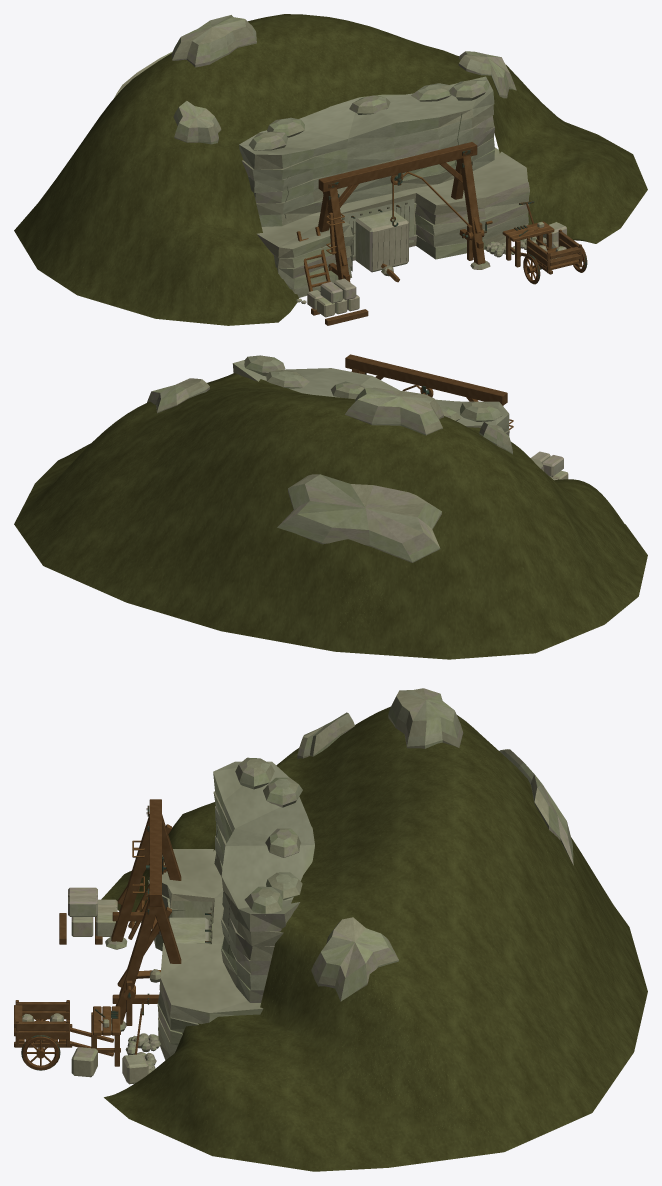
Rendered from quarry-BG-4eNkq.glb.
3 renders of one model, top to bottom at view 1: azimuth 30°, elevation 25°; view 2: azimuth 150°, elevation 25°; view 3: azimuth 270°, elevation 25°, orthographic. The views are drawn at different scales.
Visible parts, largest first — view 1: Quarry__relief-ground__Cointe_quarry_earth, Quarry__rockmass__Cointe_quarry_bedrock, Quarry__equipment__Cointe_quarry_timber, Quarry__cut-and-stock__Cointe_quarry_cutstone, Quarry__relief-rock-crest__Cointe_quarry_bedrock, Quarry__relief-rock-west__Cointe_quarry_bedrock, Quarry__relief-rock-east__Cointe_quarry_bedrock, Quarry__equipment__Cointe_quarry_bedrock, Quarry__equipment__Cointe_quarry_iron, Quarry__equipment__Cointe_quarry_rope, Quarry__spoil__Cointe_quarry_bedrock; view 2: Quarry__relief-ground__Cointe_quarry_earth, Quarry__relief-rock-rear__Cointe_quarry_bedrock, Quarry__rockmass__Cointe_quarry_bedrock, Quarry__relief-rock-crest__Cointe_quarry_bedrock, Quarry__equipment__Cointe_quarry_timber, Quarry__relief-rock-east__Cointe_quarry_bedrock, Quarry__cut-and-stock__Cointe_quarry_cutstone, Quarry__relief-rock-west__Cointe_quarry_bedrock; view 3: Quarry__relief-ground__Cointe_quarry_earth, Quarry__rockmass__Cointe_quarry_bedrock, Quarry__equipment__Cointe_quarry_timber, Quarry__cut-and-stock__Cointe_quarry_cutstone, Quarry__relief-rock-east__Cointe_quarry_bedrock, Quarry__relief-rock-crest__Cointe_quarry_bedrock, Quarry__relief-rock-rear__Cointe_quarry_bedrock, Quarry__relief-rock-west__Cointe_quarry_bedrock, Quarry__spoil__Cointe_quarry_bedrock.
Part boxes in pixels (box(x1,y1,x2,y2)): Quarry__relief-ground__Cointe_quarry_earth: box(14, 14, 647, 325); Quarry__rockmass__Cointe_quarry_bedrock: box(239, 76, 529, 297); Quarry__equipment__Cointe_quarry_timber: box(296, 142, 587, 325); Quarry__cut-and-stock__Cointe_quarry_cutstone: box(307, 198, 566, 317); Quarry__relief-rock-crest__Cointe_quarry_bedrock: box(171, 15, 256, 67); Quarry__relief-rock-west__Cointe_quarry_bedrock: box(173, 101, 221, 144); Quarry__relief-rock-east__Cointe_quarry_bedrock: box(458, 51, 516, 98); Quarry__equipment__Cointe_quarry_bedrock: box(342, 202, 566, 276); Quarry__equipment__Cointe_quarry_iron: box(328, 149, 586, 284); Quarry__equipment__Cointe_quarry_rope: box(326, 171, 473, 253); Quarry__spoil__Cointe_quarry_bedrock: box(296, 236, 546, 303); Quarry__relief-ground__Cointe_quarry_earth: box(14, 373, 647, 659); Quarry__relief-rock-rear__Cointe_quarry_bedrock: box(277, 474, 441, 562); Quarry__rockmass__Cointe_quarry_bedrock: box(232, 355, 543, 471); Quarry__relief-rock-crest__Cointe_quarry_bedrock: box(345, 387, 443, 435); Quarry__equipment__Cointe_quarry_timber: box(345, 354, 507, 405); Quarry__relief-rock-east__Cointe_quarry_bedrock: box(147, 378, 209, 413); Quarry__cut-and-stock__Cointe_quarry_cutstone: box(531, 451, 568, 480); Quarry__relief-rock-west__Cointe_quarry_bedrock: box(479, 422, 512, 454); Quarry__relief-ground__Cointe_quarry_earth: box(101, 706, 647, 1171); Quarry__rockmass__Cointe_quarry_bedrock: box(148, 757, 314, 1060); Quarry__equipment__Cointe_quarry_timber: box(14, 799, 181, 1069); Quarry__cut-and-stock__Cointe_quarry_cutstone: box(68, 887, 211, 1084); Quarry__relief-rock-east__Cointe_quarry_bedrock: box(311, 917, 398, 1001); Quarry__relief-rock-crest__Cointe_quarry_bedrock: box(388, 688, 463, 748); Quarry__relief-rock-rear__Cointe_quarry_bedrock: box(499, 749, 573, 865); Quarry__relief-rock-west__Cointe_quarry_bedrock: box(297, 712, 354, 758); Quarry__spoil__Cointe_quarry_bedrock: box(125, 921, 160, 1073).
Size of the model in its own units: 17.9 by 5.66 by 13.68.
Materials: 6 (6 with a texture image).
